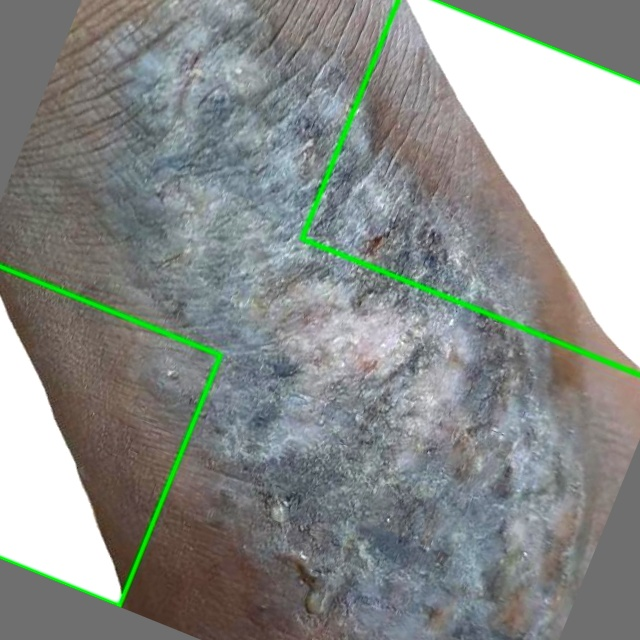Contact Dermatitis: (302, 0, 639, 374), (0, 266, 220, 606)
